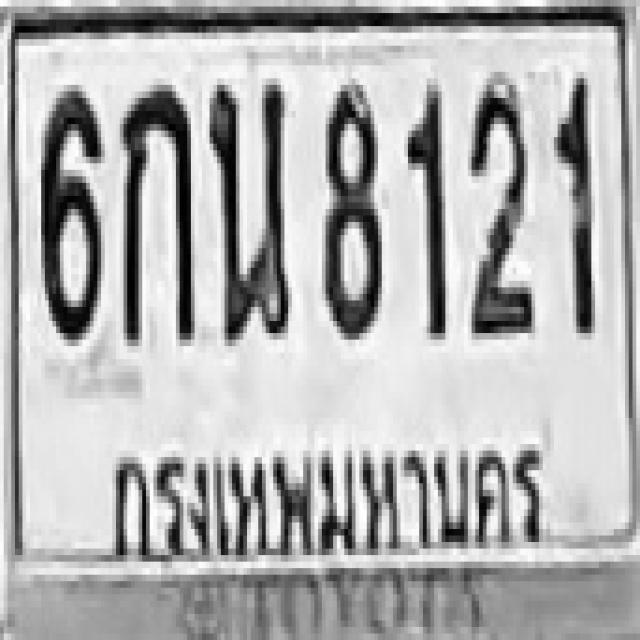1: (404, 78, 442, 333), (554, 72, 591, 333)
10GorGai: (120, 78, 191, 340)
2: (468, 75, 531, 330)
34NorNu: (206, 75, 288, 336)
6: (38, 82, 98, 336)
8: (322, 78, 378, 333)
Bangkok: (96, 421, 551, 569)
